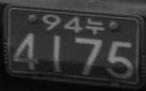1: (45, 34, 70, 72)
4: (11, 32, 38, 70), (63, 15, 82, 34)
5: (106, 40, 134, 79)
7: (74, 36, 103, 75)
9: (41, 13, 62, 30)
누: (85, 16, 104, 34)
